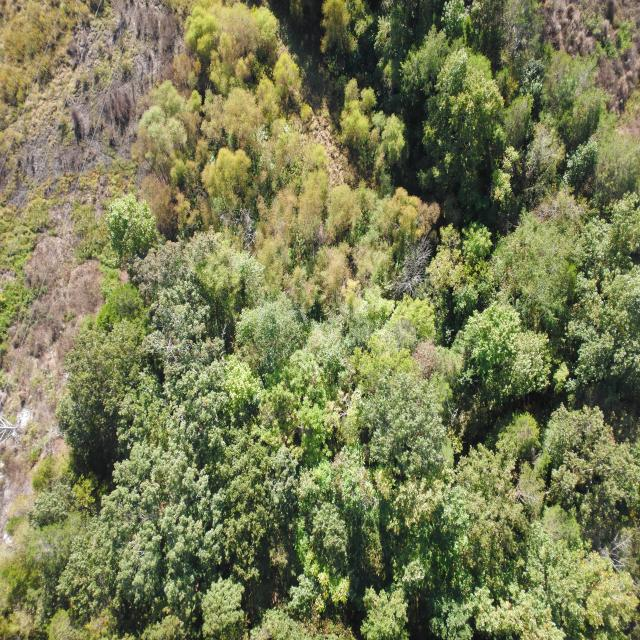Area of Interest: (10, 0, 634, 624)
